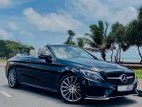car: (3, 34, 139, 104)
